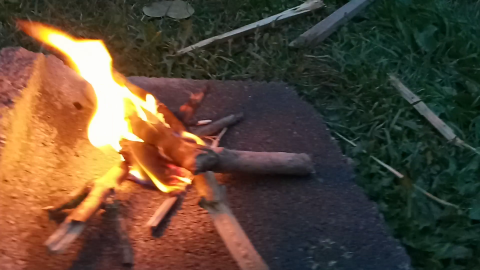fire: (12, 20, 216, 193)
